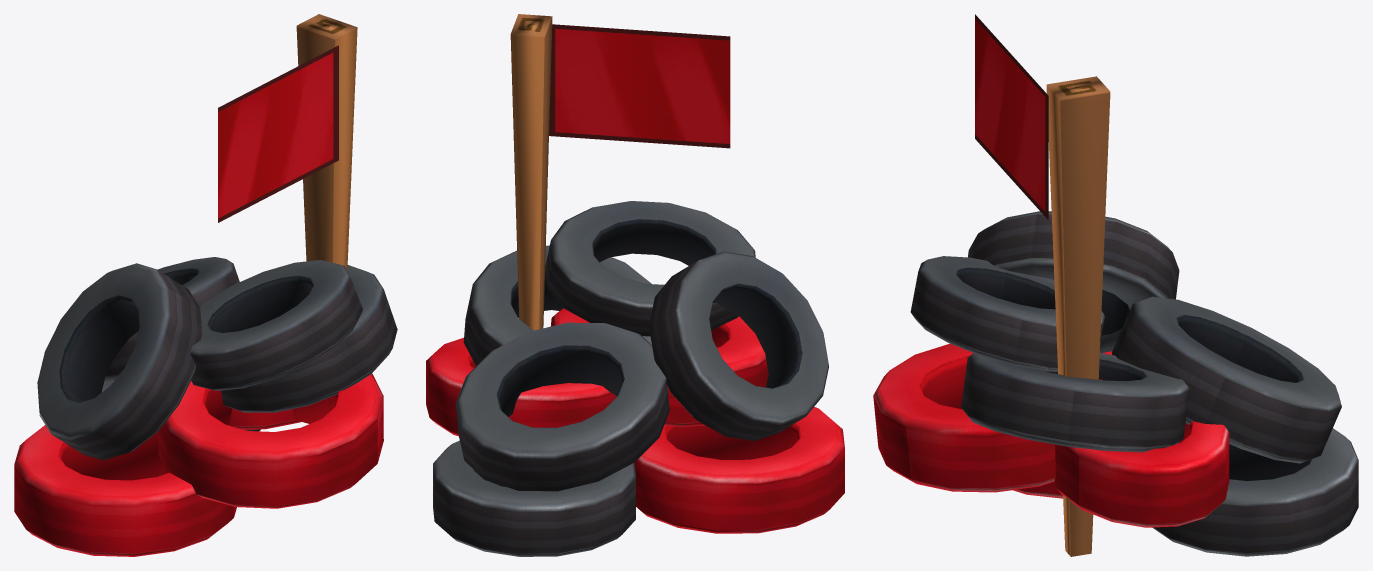
The model's file is KartsNDartsOdysseyStatue.fbx.
3 renders of one model, left to right at view 1: azimuth 30°, elevation 25°; view 2: azimuth 150°, elevation 25°; view 3: azimuth 270°, elevation 25°, orthographic. The views are drawn at different scales.
Parts seen in each view (by area): view 1: Tyres, Flag1; view 2: Tyres, Flag1; view 3: Tyres, Flag1.
Part boxes in pixels (x1,y1,x2,y2): Tyres: (14, 14, 397, 556); Flag1: (218, 45, 338, 222); Tyres: (426, 14, 844, 556); Flag1: (549, 24, 730, 148); Tyres: (873, 76, 1358, 556); Flag1: (975, 14, 1048, 219).
Size of the model in its own units: 16.64 by 18.71 by 17.54.
